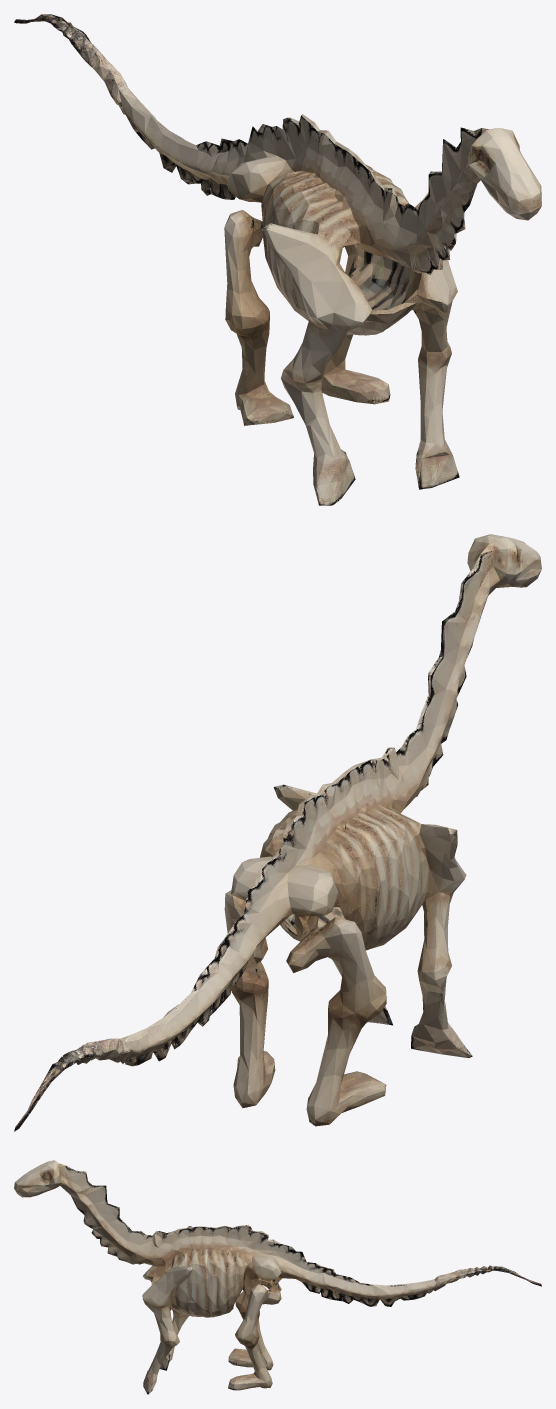
Rendered from diplodocus-skjelett.glb.
3 renders of one model, top to bottom at view 1: azimuth 30°, elevation 25°; view 2: azimuth 150°, elevation 25°; view 3: azimuth 270°, elevation 25°, orthographic. The views are drawn at different scales.
Visible parts, largest first — view 1: geometry_0; view 2: geometry_0; view 3: geometry_0.
Boxes of the visible parts, <box> form: geometry_0: <box>14,14,541,505</box>; geometry_0: <box>14,534,541,1131</box>; geometry_0: <box>14,1160,541,1394</box>.
Bounding box in the file's own units: 0.2039 × 0.458 × 0.9967.
1 material, 1 textured.
